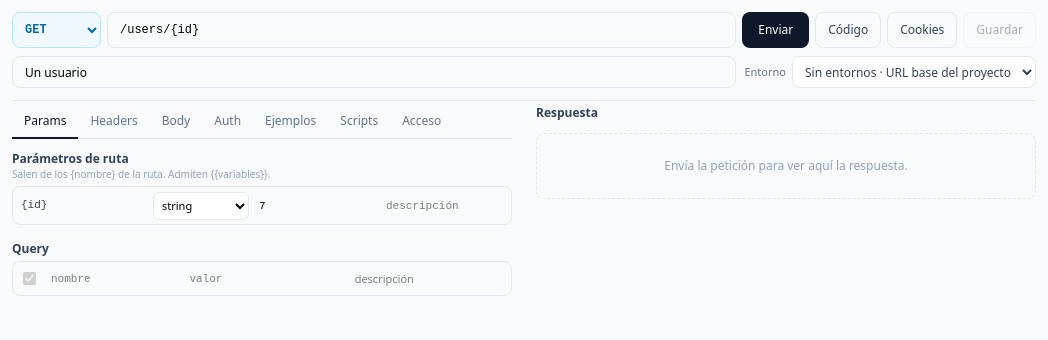
cargar y crear › un rechazo al guardar enseña cada campo y el de la ruta debajo de ella
The width and height of the screenshot is (1048, 340).
Replace the text in the field showing "/users/{id}" with "users" at (422, 30), box [107,12,736,48]
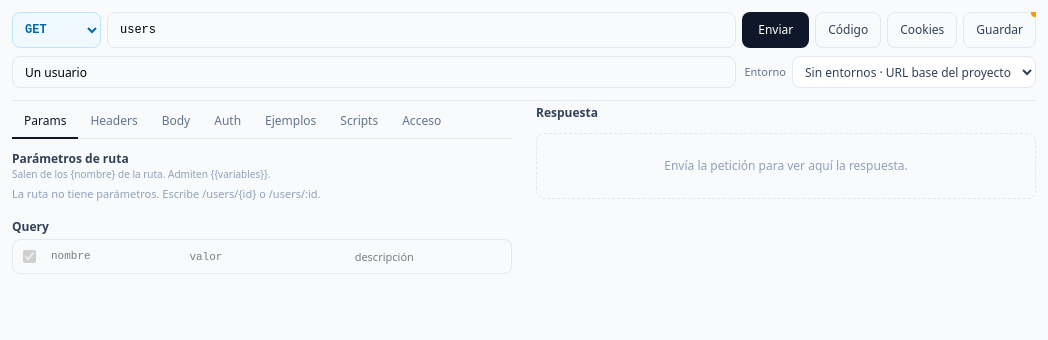
Click the button "Guardar" at (1000, 30), box [963,12,1036,48]
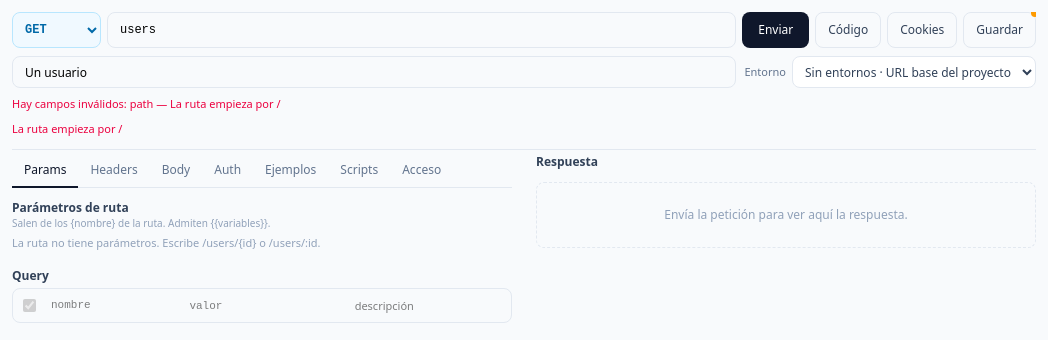
Expected: the text "Hay campos inválidos: path — La ruta empieza por /" is shown, [12,96,280,111]
Expected: the text "La ruta empieza por /" is shown, [12,120,122,136]
